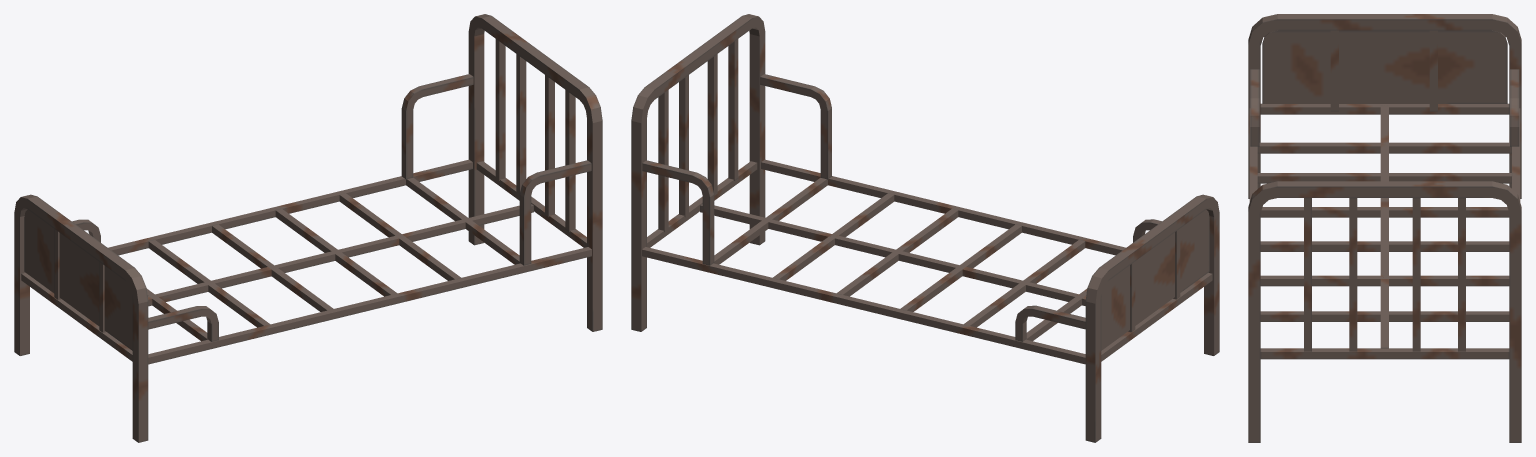
The model's file is obj_bed_without.fbx.
3 renders of one model, left to right at view 1: azimuth 30°, elevation 25°; view 2: azimuth 150°, elevation 25°; view 3: azimuth 270°, elevation 25°, orthographic. The views are drawn at different scales.
Visible parts, largest first — view 1: obj_bed_without; view 2: obj_bed_without; view 3: obj_bed_without.
Part boxes in pixels (x1,y1,x2,y2): obj_bed_without: (14, 14, 602, 442); obj_bed_without: (631, 14, 1219, 442); obj_bed_without: (1248, 14, 1521, 442).
Size of the model in its own units: 209 by 100 by 96.79.
